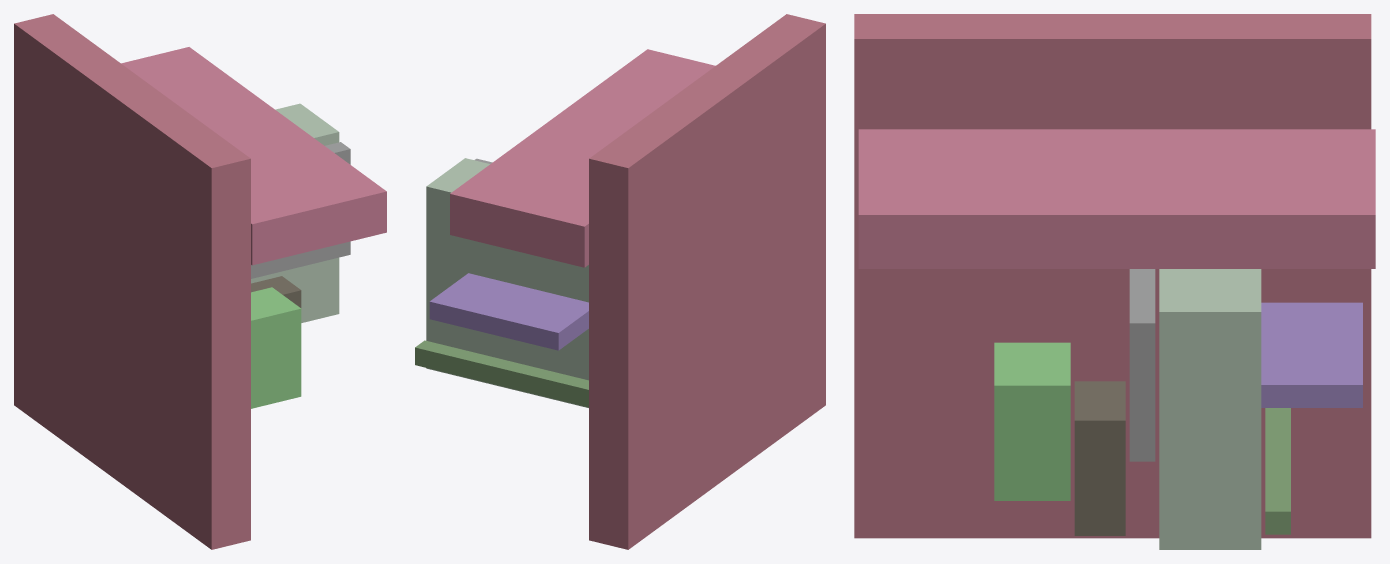
File: 199541_pred.glb
3 renders of one model, left to right at view 1: azimuth 30°, elevation 25°; view 2: azimuth 150°, elevation 25°; view 3: azimuth 270°, elevation 25°, orthographic. The views are drawn at different scales.
Parts seen in each view (by area): view 1: world; view 2: world; view 3: world.
Boxes of the visible parts, <box> form: world: <box>14,14,386,549</box>; world: <box>415,14,825,549</box>; world: <box>854,14,1375,549</box>.
Bounding box in the file's own units: 4.35 × 6.5 × 6.15.
